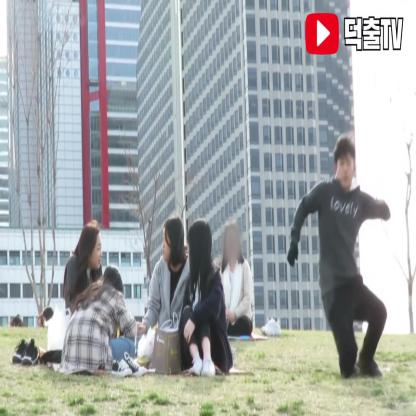Fall_Down: (281, 132, 394, 388)
